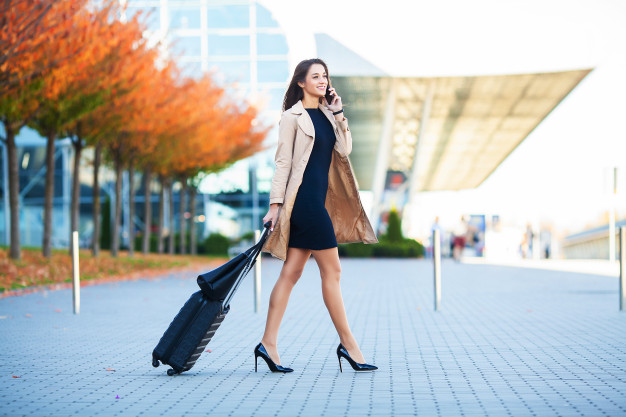luggage: (152, 293, 224, 372)
mobile phone: (324, 86, 335, 107)
shoulder bag: (197, 246, 265, 293)
